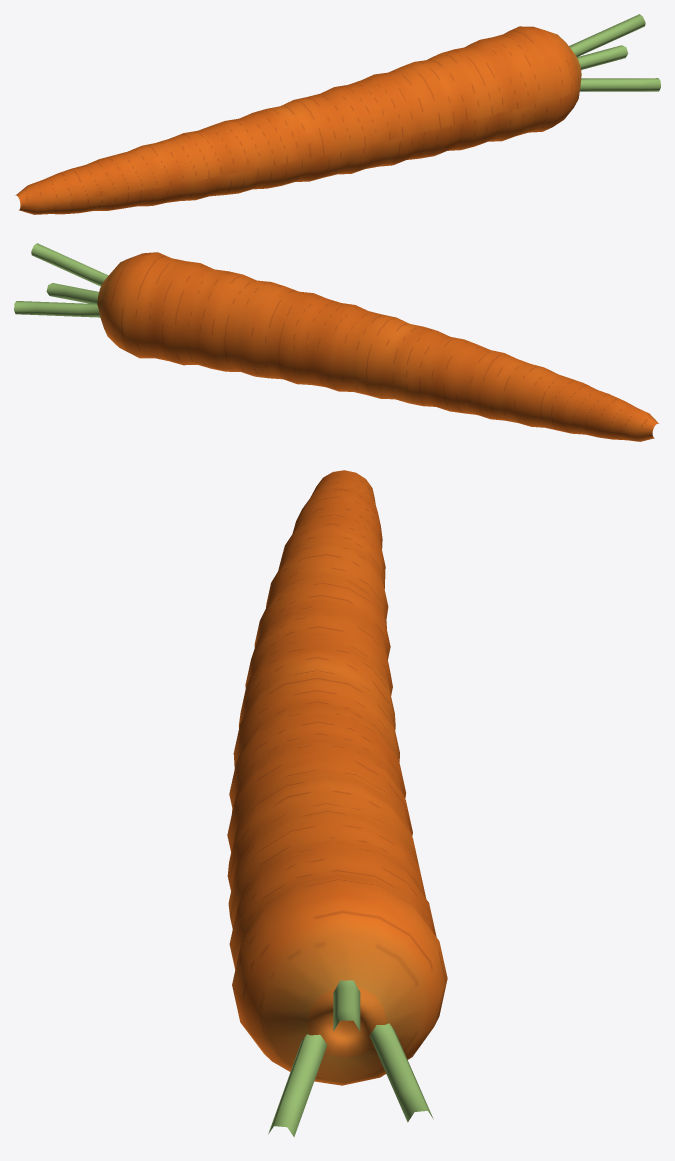
3 renders of one model, top to bottom at view 1: azimuth 30°, elevation 25°; view 2: azimuth 150°, elevation 25°; view 3: azimuth 270°, elevation 25°, orthographic. The views are drawn at different scales.
Visible parts, largest first — view 1: Carrot; view 2: Carrot; view 3: Carrot.
Boxes of the visible parts, x1=… form: Carrot: x1=15, y1=14, x2=660, y2=214; Carrot: x1=14, y1=243, x2=658, y2=441; Carrot: x1=227, y1=470, x2=447, y2=1137.
Bounding box in the file's own units: 0.1925 × 0.0289 × 0.0294.
Materials: 2 (1 with a texture image).
